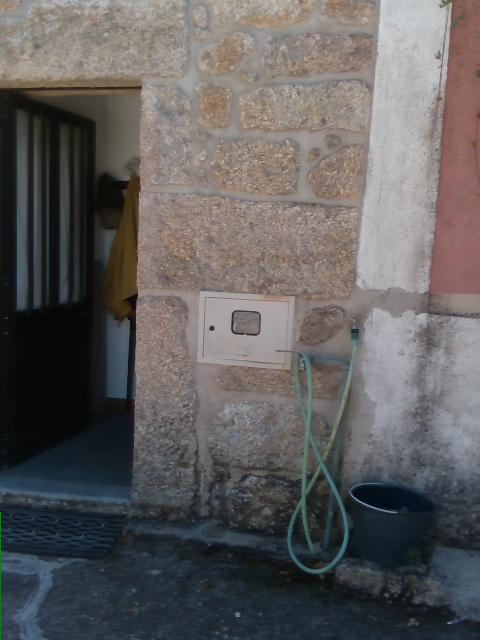door: (1, 91, 96, 464)
